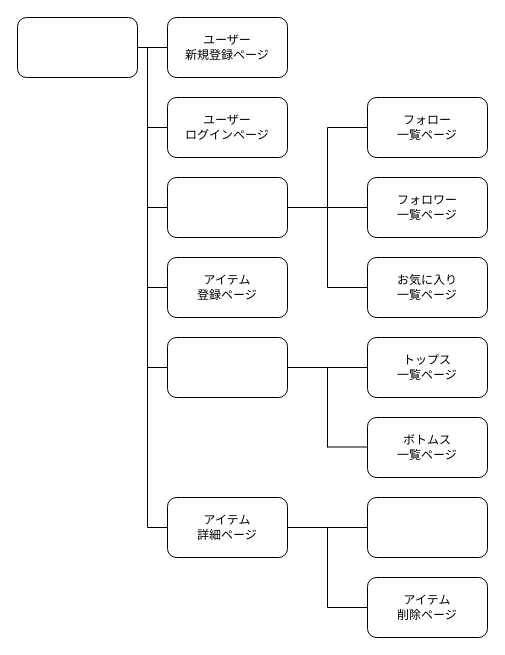
The diagram is 505 pixels wide and 655 high, and some of its shapes have lost their labels. The box of each missing label's shape, as (x1, y1, x2, y2) in pixels:
アイテム 一覧ページ: (166, 336, 288, 398)
アイテム 編集ページ: (366, 496, 488, 558)
トップページ: (16, 16, 138, 78)
ユーザー マイページ: (166, 176, 288, 238)
